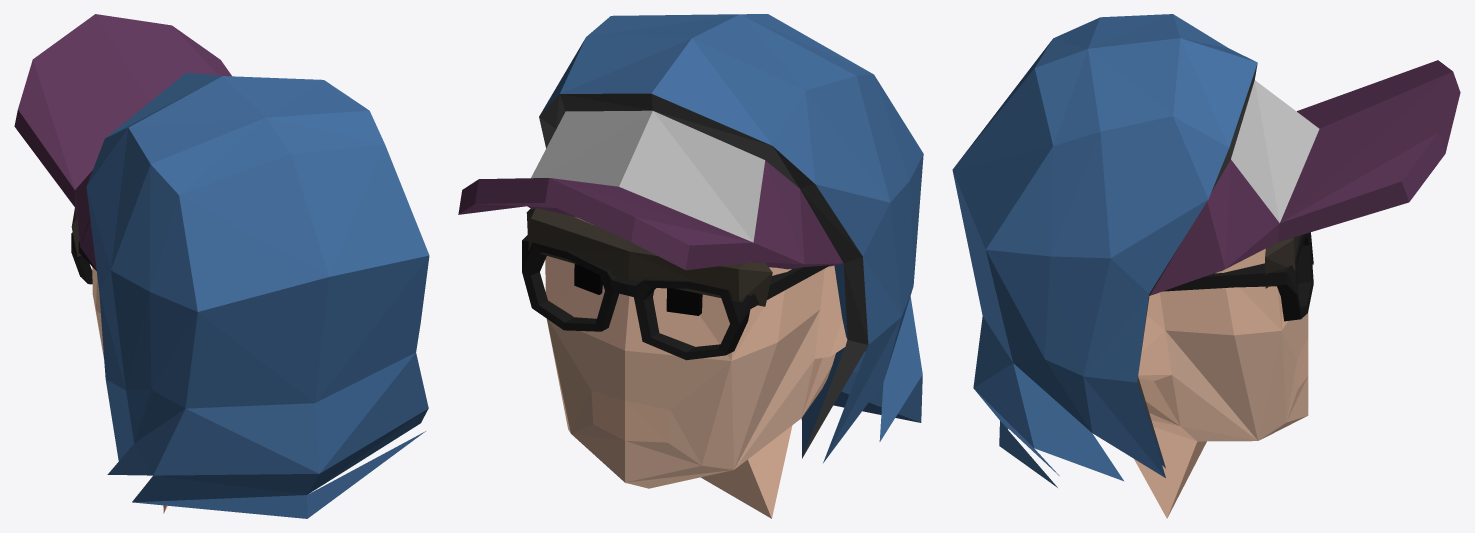
Rendered from Son_01_Head_0_02_A.obj.
3 views of the same model, side by side, from view 1: azimuth 30°, elevation 25°; view 2: azimuth 150°, elevation 25°; view 3: azimuth 270°, elevation 25° (orthographic). The views are drawn at different scales.
Visible parts, largest first — view 1: Son_01_Head_0_02_A; view 2: Son_01_Head_0_02_A; view 3: Son_01_Head_0_02_A.
Boxes of the visible parts, x1=… form: Son_01_Head_0_02_A: x1=14, y1=14, x2=429, y2=518; Son_01_Head_0_02_A: x1=458, y1=14, x2=923, y2=518; Son_01_Head_0_02_A: x1=952, y1=14, x2=1460, y2=518.
Bounding box in the file's own units: 0.2947 × 0.3976 × 0.4097.
Materials: 1 (1 with a texture image).
